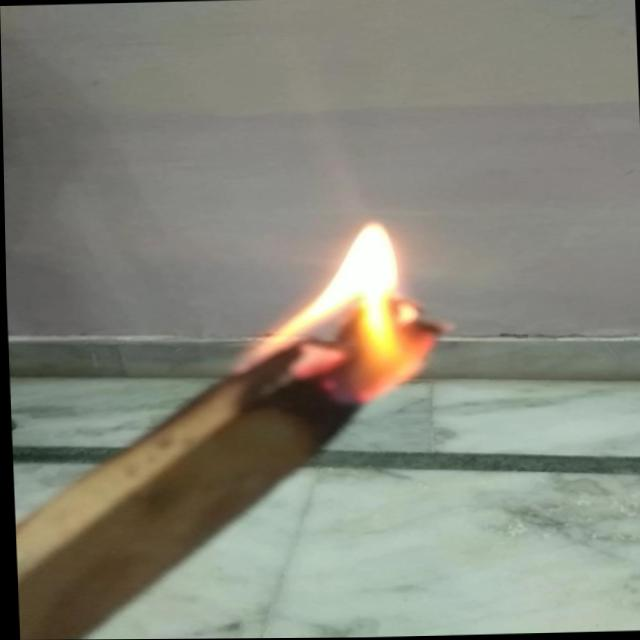fire: (227, 214, 460, 405)
